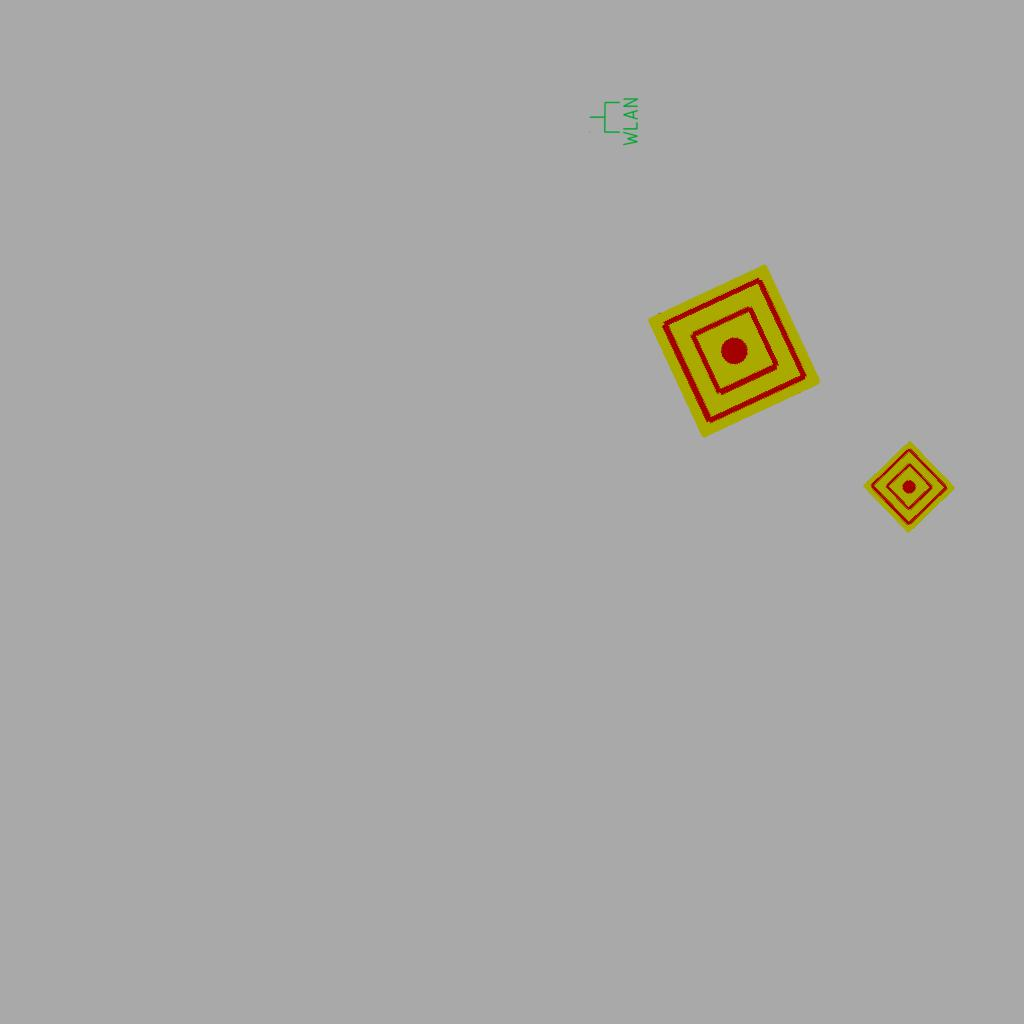NAM-Nichtautomatischer_Melder: (646, 263, 822, 439), (862, 440, 956, 534)
WLAN: (588, 96, 640, 148)
